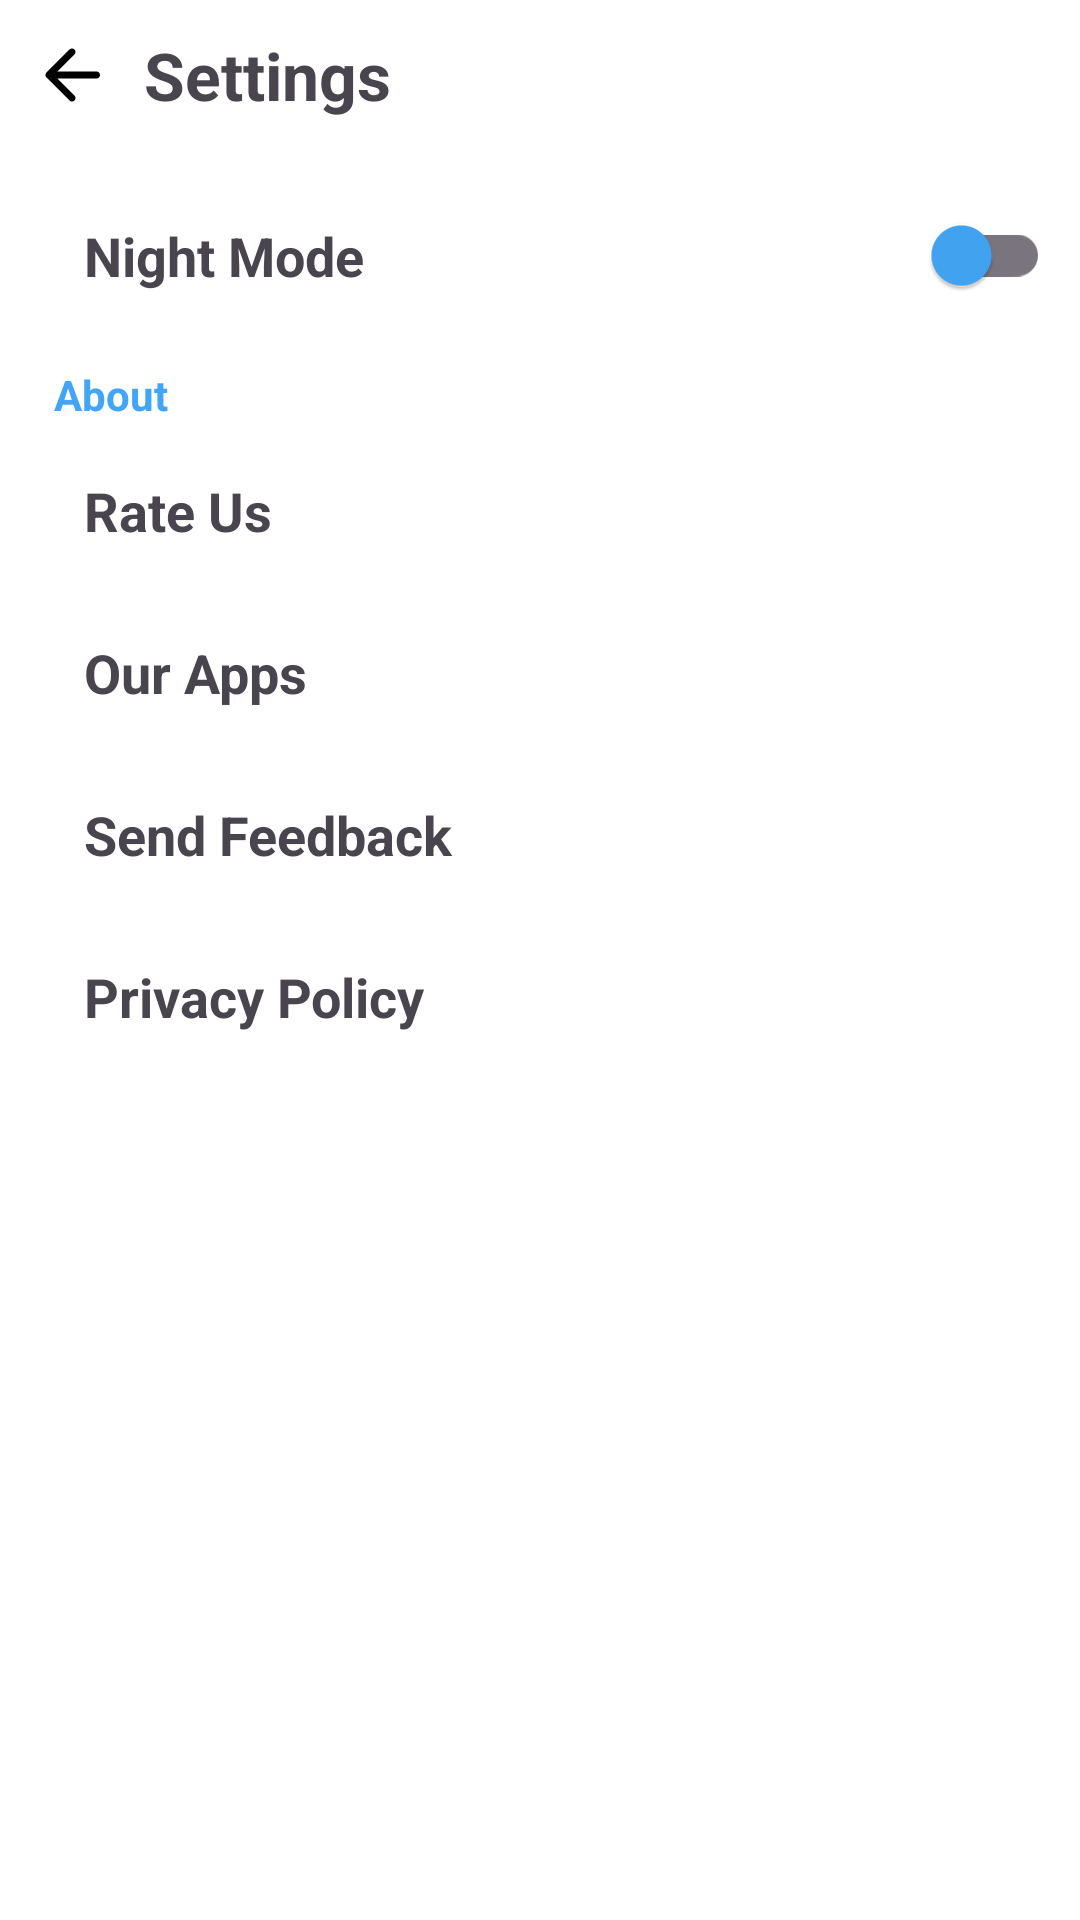

Named icons in this screenshot (1080*1920) and their centers, (x,y):
Back Button: (72,75)
